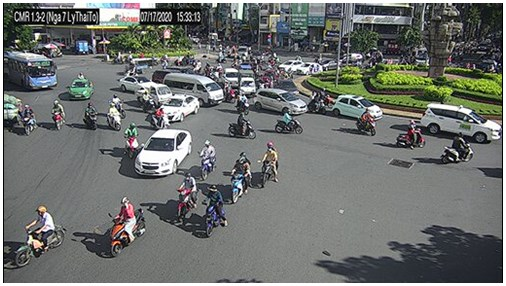xe_buyt: (4, 51, 56, 90)
xe_hoi: (420, 102, 501, 145), (134, 129, 193, 175), (254, 88, 307, 115), (333, 95, 382, 122), (159, 94, 199, 122), (119, 76, 156, 92), (68, 80, 91, 99), (277, 59, 303, 72), (298, 62, 322, 74), (321, 59, 340, 69)
xe_khach: (163, 73, 223, 108)
xe_may: (16, 203, 65, 267), (109, 197, 147, 256), (199, 184, 229, 239), (175, 172, 198, 221), (442, 132, 473, 164), (232, 152, 250, 206), (396, 119, 425, 149), (198, 139, 218, 181), (228, 112, 257, 140), (262, 142, 278, 189), (276, 110, 303, 136), (356, 108, 377, 137), (21, 104, 38, 136), (51, 99, 66, 132), (308, 91, 327, 114), (112, 91, 127, 120), (127, 123, 139, 159), (84, 102, 98, 131), (152, 108, 170, 130), (108, 102, 121, 132), (142, 90, 156, 114), (223, 81, 237, 103), (236, 90, 248, 114), (111, 51, 124, 65), (215, 51, 226, 64)
